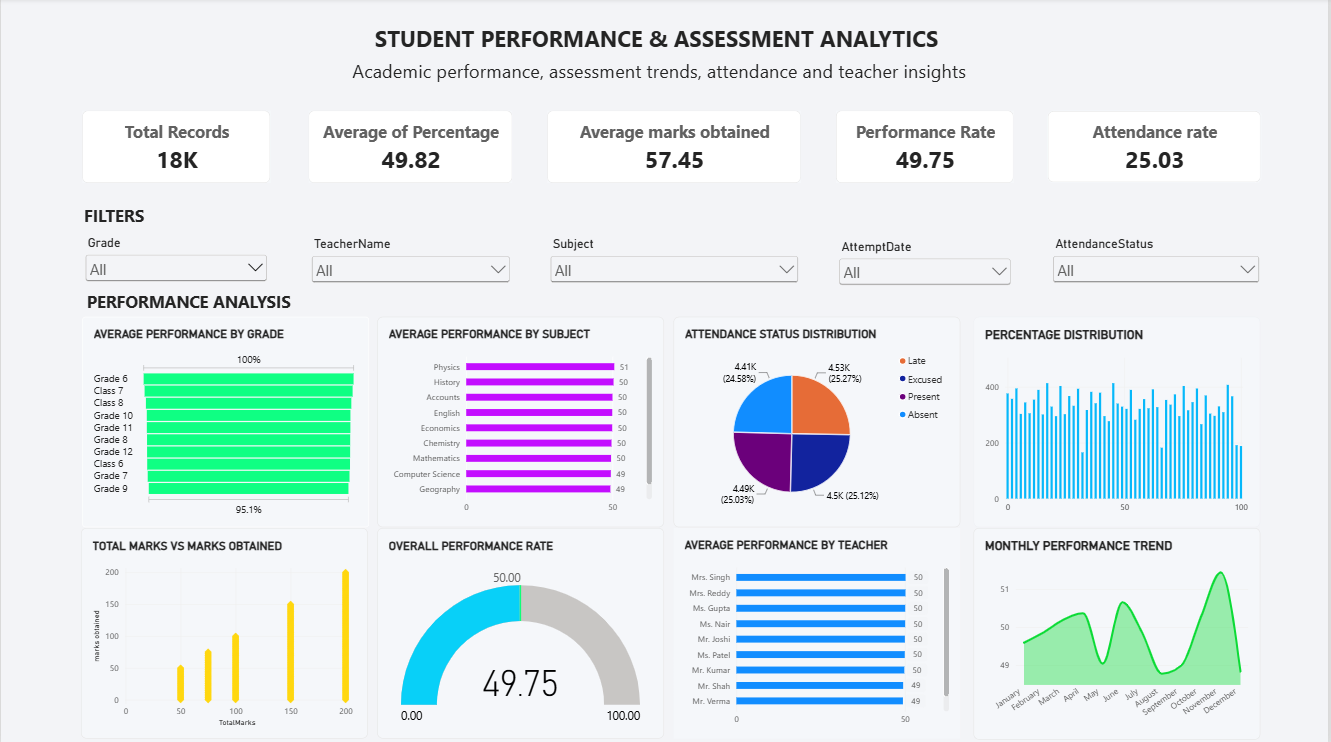

Layout of this report page (visuals, bound fields, positions):
{"tool":"powerbi","page":{"name":"Page 1","canvas":[1920,1080],"ordinal":0},"visuals":[{"type":"cardVisual","fields":{"Data":["Avg(cleaned_data.MarksObtained)"]},"box":[790,162,367.5,105],"z":0},{"type":"cardVisual","fields":{"Data":["Avg(cleaned_data.Percentage)"]},"box":[446,162,295,105],"z":1000},{"type":"cardVisual","fields":{"Data":["cleaned_data.Performance Rate"]},"box":[1208,162,257.5,105],"z":2000},{"type":"lineChart","title":"MONTHLY PERFORMANCE TREND","fields":{"Category":["cleaned_data.AttemptDate.Variation.Date Hierarchy.Month"],"Y":["Avg(cleaned_data.Percentage)"]},"box":[1408,768,415,306],"z":3000},{"type":"clusteredBarChart","title":"AVERAGE PERFORMANCE BY SUBJECT","fields":{"Category":["cleaned_data.Subject"],"Y":["Avg(cleaned_data.Percentage)"]},"box":[544,462,415,305],"z":4000},{"type":"clusteredColumnChart","title":"PERCENTAGE DISTRIBUTION","fields":{"Category":["cleaned_data.Percentage (bins)"],"Y":["CountNonNull(cleaned_data.Percentage)"]},"box":[1408,462,415,305],"z":5000},{"type":"pieChart","title":"ATTENDANCE STATUS DISTRIBUTION","fields":{"Category":["cleaned_data.AttendanceStatus"],"Y":["CountNonNull(cleaned_data.StudentID)"]},"box":[974,462,415,305],"z":6000},{"type":"scatterChart","title":"TOTAL MARKS VS MARKS OBTAINED","fields":{"X":["cleaned_data.TotalMarks"],"Y":["cleaned_data.MarksObtained"]},"box":[116,768,415,305],"z":7000},{"type":"funnel","title":"AVERAGE PERFORMANCE BY GRADE","fields":{"Category":["cleaned_data.Grade"],"Y":["Avg(cleaned_data.Percentage)"]},"box":[118,462,415,305],"z":8000},{"type":"slicer","fields":{"Values":["cleaned_data.Subject"]},"box":[790,346,368,68],"z":9000},{"type":"slicer","fields":{"Values":["cleaned_data.Grade"]},"box":[118,344,272,70],"z":10000},{"type":"slicer","fields":{"Values":["cleaned_data.AttendanceStatus"]},"box":[1518,346,308,68],"z":11000},{"type":"slicer","fields":{"Values":["cleaned_data.TeacherName"]},"box":[446,346,296,68],"z":12000},{"type":"clusteredBarChart","title":"AVERAGE PERFORMANCE BY TEACHER","fields":{"Category":["cleaned_data.TeacherName"],"Y":["Avg(cleaned_data.Percentage)"]},"box":[974,768,415,305],"z":13000},{"type":"gauge","title":"OVERALL PERFORMANCE RATE","fields":{"Y":["cleaned_data.Performance Rate"]},"box":[544,768,415,305],"z":14000},{"type":"cardVisual","fields":{"Data":["cleaned_data.Total Records"]},"box":[118,162,272.5,105],"z":15000},{"type":"textbox","box":[508,86,904,48],"z":16000},{"type":"textbox","box":[118,298,92,38],"z":17000},{"type":"textbox","box":[118,424,308,38],"z":18000},{"type":"cardVisual","fields":{"Data":["cleaned_data.# ATTENDANCE RATEAttendance Rate"]},"box":[1514,162,310,105],"z":19000},{"type":"slicer","fields":{"Values":["cleaned_data.AttemptDate"]},"box":[1208,350,258,70],"z":20000},{"type":"textbox","box":[541,36,838,50],"z":21000}]}

Visuals, with their boxes in screenshot pixels (x1, y1, x2, y2), scaled from the page's 1920x1080 canvas onto the 1331x742 screenshot:
cardVisual - Avg(cleaned_data.MarksObtained): [548, 111, 802, 183]
cardVisual - Avg(cleaned_data.Percentage): [309, 111, 514, 183]
cardVisual - cleaned_data.Performance Rate: [837, 111, 1016, 183]
"MONTHLY PERFORMANCE TREND" lineChart: [976, 528, 1264, 738]
"AVERAGE PERFORMANCE BY SUBJECT" clusteredBarChart: [377, 317, 665, 527]
"PERCENTAGE DISTRIBUTION" clusteredColumnChart: [976, 317, 1264, 527]
"ATTENDANCE STATUS DISTRIBUTION" pieChart: [675, 317, 963, 527]
"TOTAL MARKS VS MARKS OBTAINED" scatterChart: [80, 528, 368, 737]
"AVERAGE PERFORMANCE BY GRADE" funnel: [82, 317, 369, 527]
slicer - cleaned_data.Subject: [548, 238, 803, 284]
slicer - cleaned_data.Grade: [82, 236, 270, 284]
slicer - cleaned_data.AttendanceStatus: [1052, 238, 1266, 284]
slicer - cleaned_data.TeacherName: [309, 238, 514, 284]
"AVERAGE PERFORMANCE BY TEACHER" clusteredBarChart: [675, 528, 963, 737]
"OVERALL PERFORMANCE RATE" gauge: [377, 528, 665, 737]
cardVisual - cleaned_data.Total Records: [82, 111, 271, 183]
textbox: [352, 59, 979, 92]
textbox: [82, 205, 146, 231]
textbox: [82, 291, 295, 317]
cardVisual - cleaned_data.# ATTENDANCE RATEAttendance Rate: [1050, 111, 1264, 183]
slicer - cleaned_data.AttemptDate: [837, 240, 1016, 289]
textbox: [375, 25, 956, 59]
